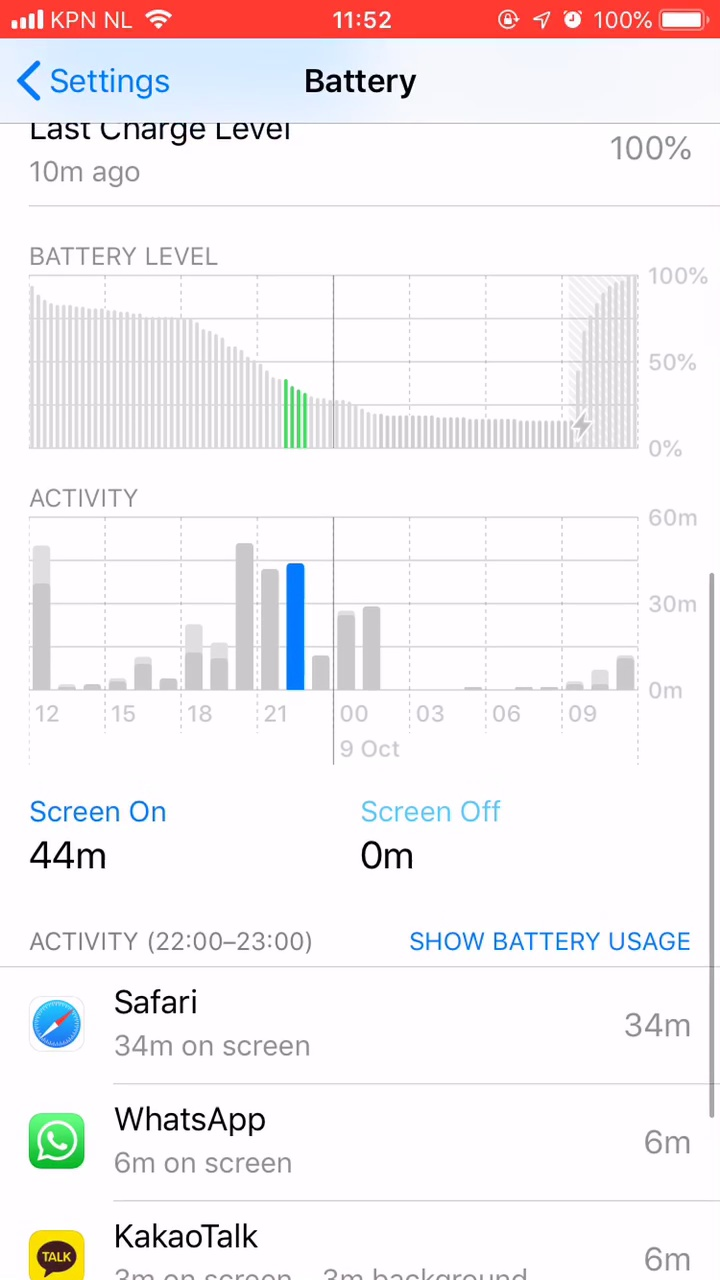activity: (23, 919, 340, 957)
app: (24, 1103, 707, 1189)
